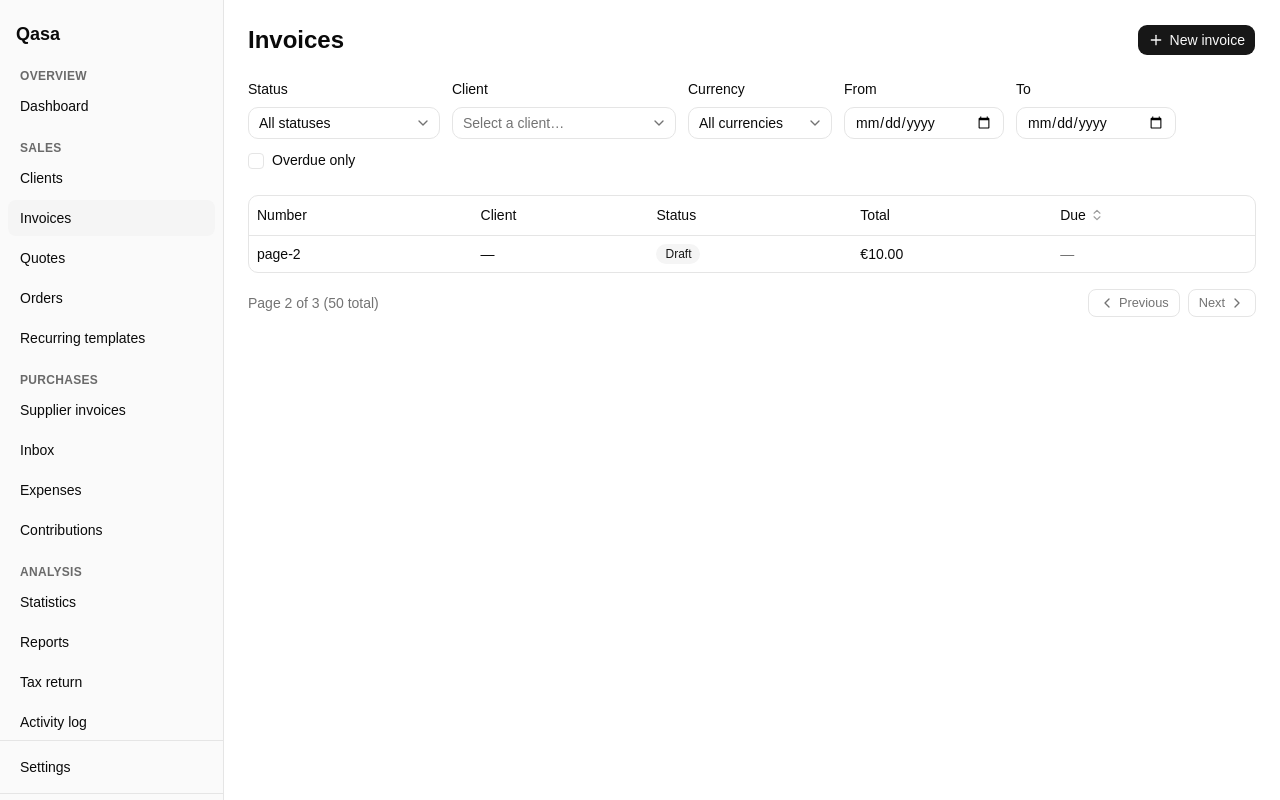
Test case: invoices list › reflects the page from the URL and advances it on Next
This screenshot has width=1280, height=800.
Check: the link "page-2" is shown, box [257,246,301,262]
Click the button "Next" at (1222, 303), box [1188,289,1256,317]
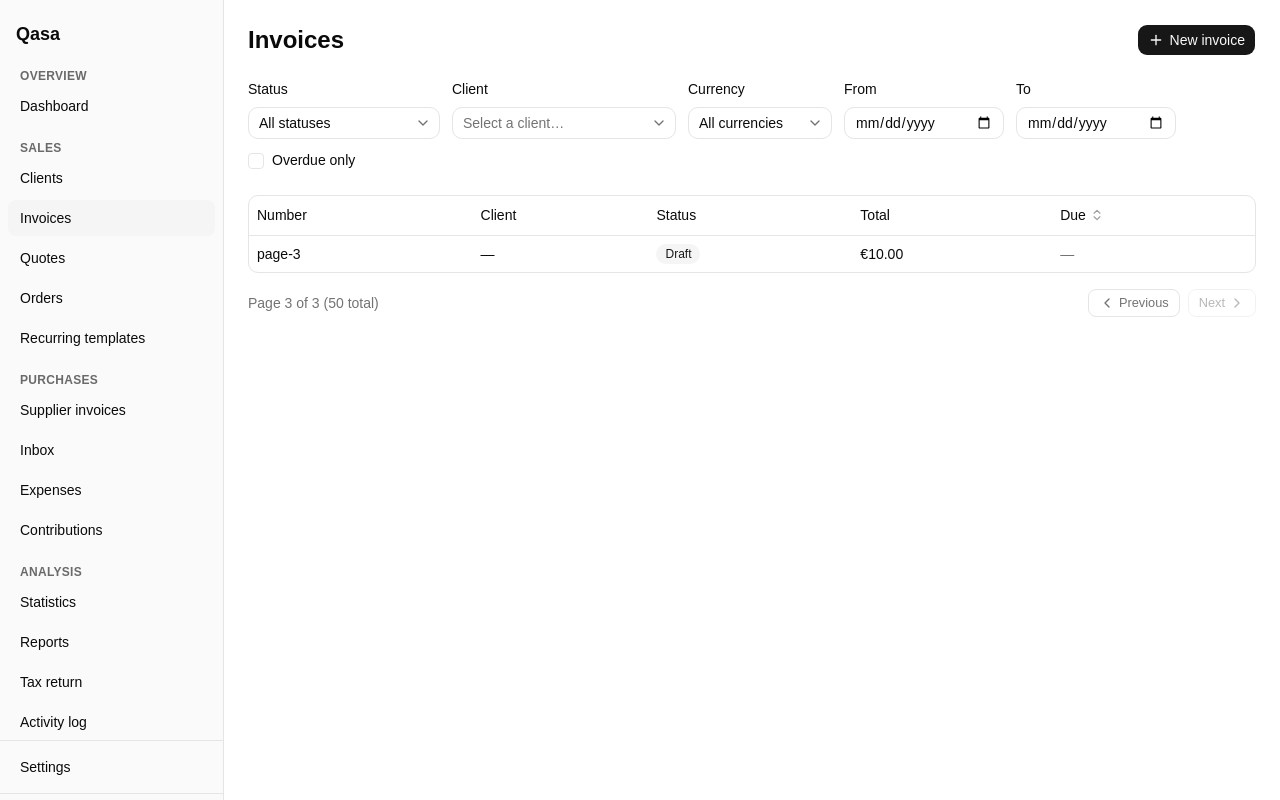
Check: the link "page-3" is shown, box [257,246,301,262]
